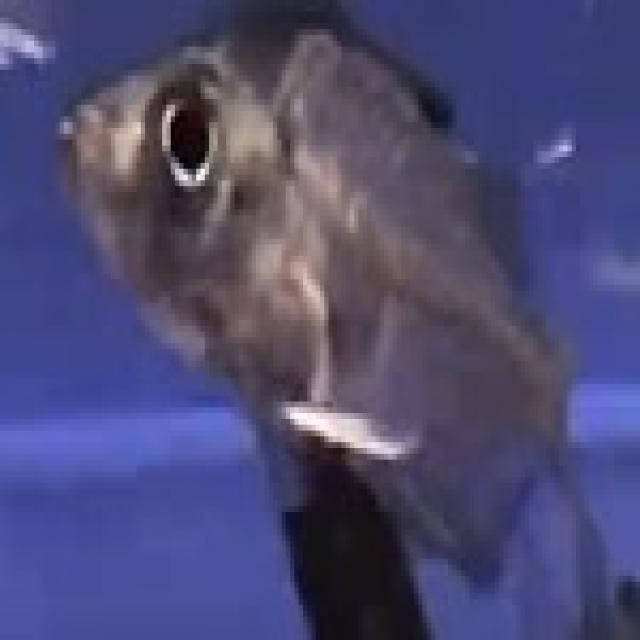Glass-Perchlet: (21, 0, 621, 606)
